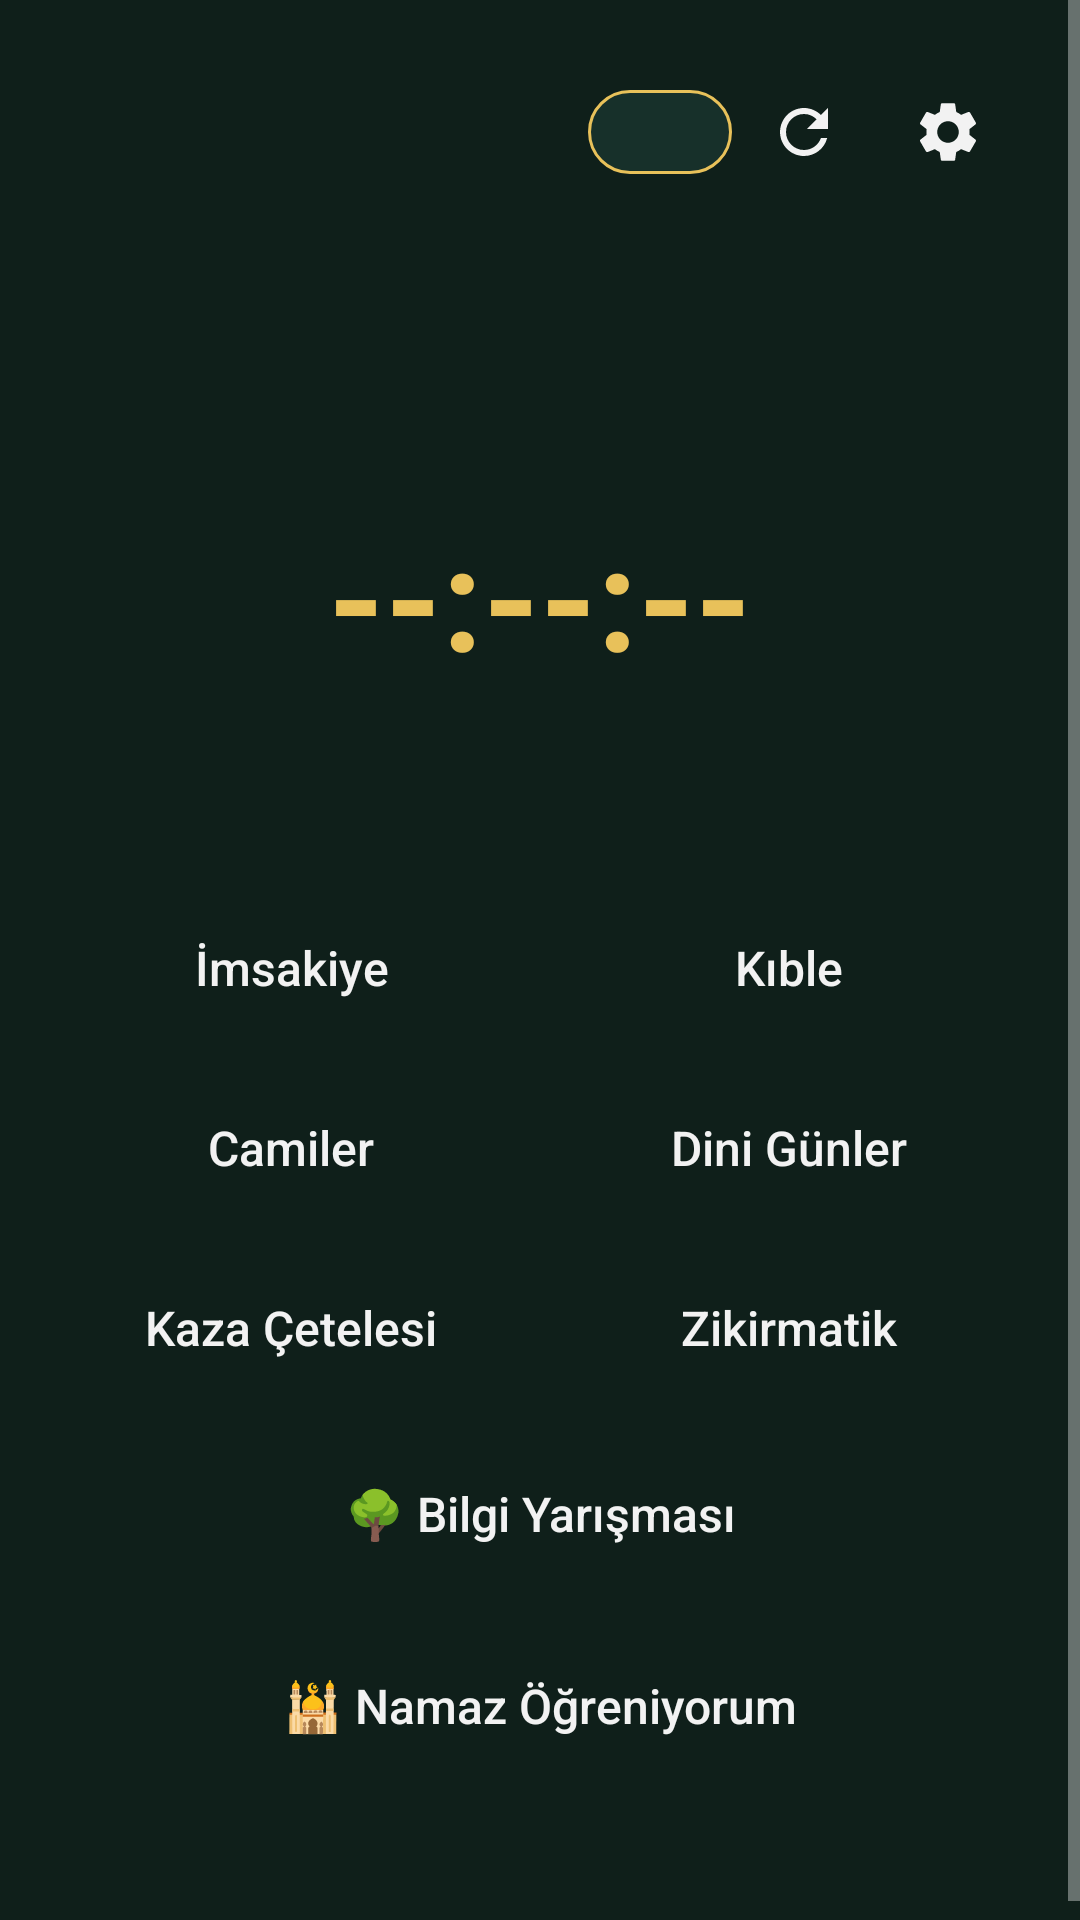

Screen size 1080w x 1920h. Icon name, then its box in pixels as detection(x1, y1, x2, y2):
Ayarlar: detection(920, 103, 976, 161)
Konumu ve vakitleri yenile: detection(780, 108, 828, 156)
